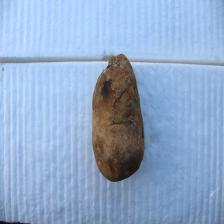Diseased-fungal potato: (91, 55, 146, 184)
